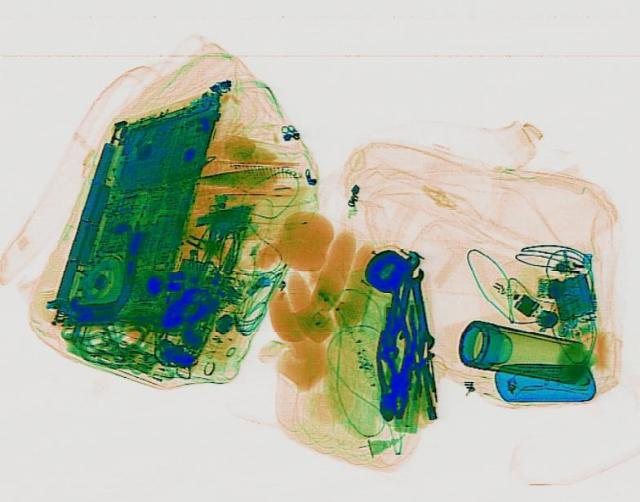Pliers: (366, 326, 414, 419), (382, 332, 414, 415)
Wrench: (400, 266, 436, 350)
